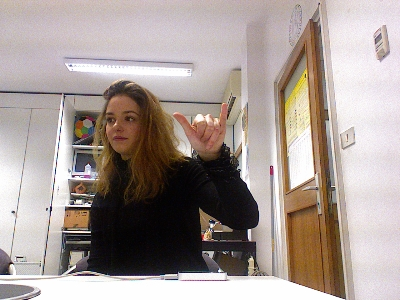六六六: (171, 102, 227, 154)
